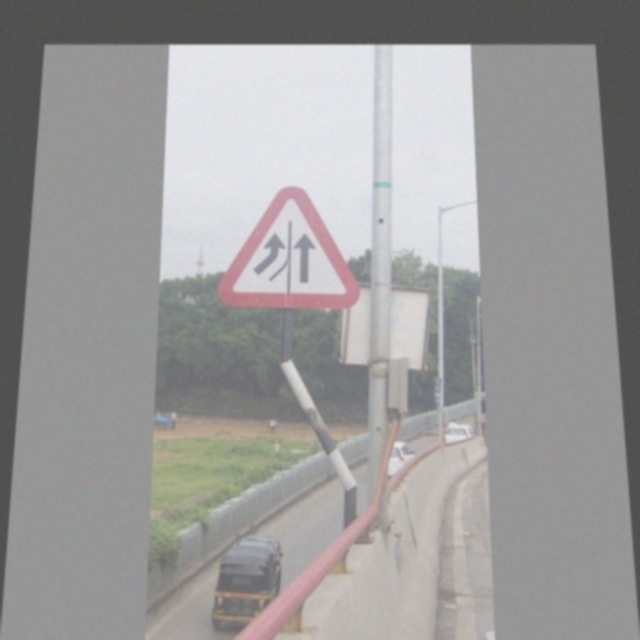Merge_Traffic_Ahead: (217, 180, 364, 318)
